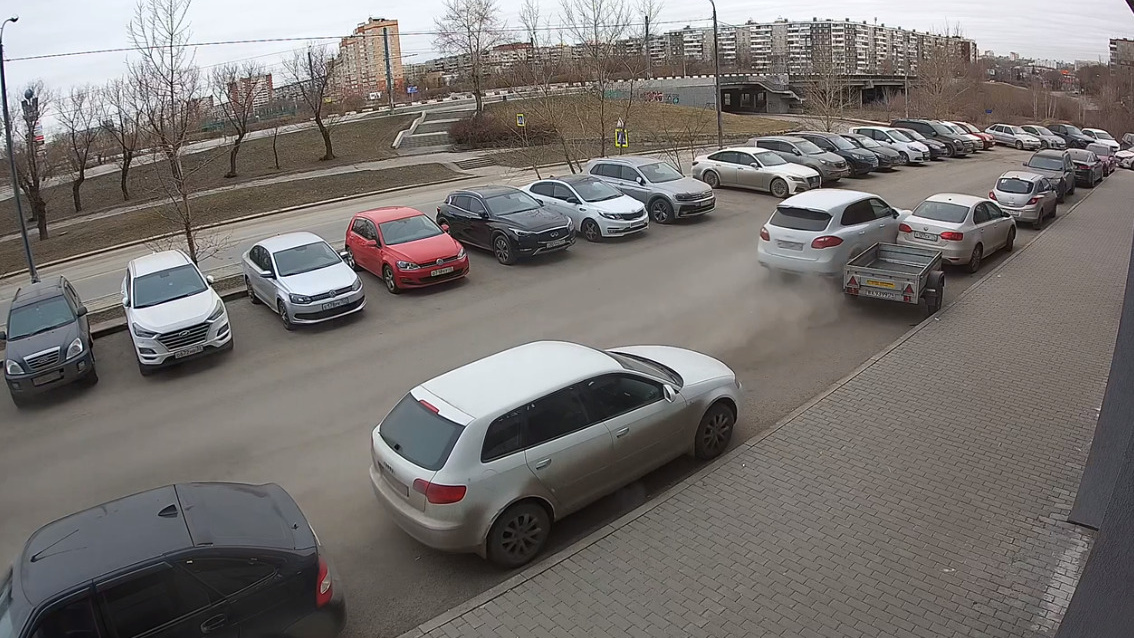Car: (370, 340, 741, 566), (0, 481, 347, 638), (121, 250, 234, 375), (757, 189, 908, 279), (0, 276, 98, 408), (242, 232, 366, 330), (436, 186, 575, 265), (344, 206, 470, 293), (898, 193, 1017, 271), (585, 157, 716, 224), (523, 176, 649, 241), (691, 147, 822, 199), (747, 136, 849, 184), (782, 131, 879, 176), (989, 171, 1058, 227), (889, 118, 973, 157), (849, 126, 929, 165), (1019, 148, 1075, 200), (839, 133, 900, 170), (893, 128, 947, 160), (1063, 147, 1103, 188), (984, 124, 1040, 150), (937, 121, 983, 152), (949, 120, 995, 149), (1045, 124, 1096, 148), (1019, 125, 1066, 149), (1079, 127, 1120, 152), (1086, 143, 1116, 176), (1115, 147, 1134, 170), (1120, 133, 1134, 150)
